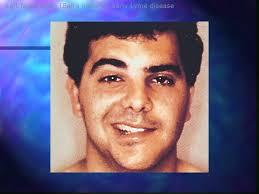strokeEyeMid: (89, 56, 183, 92)
strokeMouthMid: (107, 117, 161, 141)
